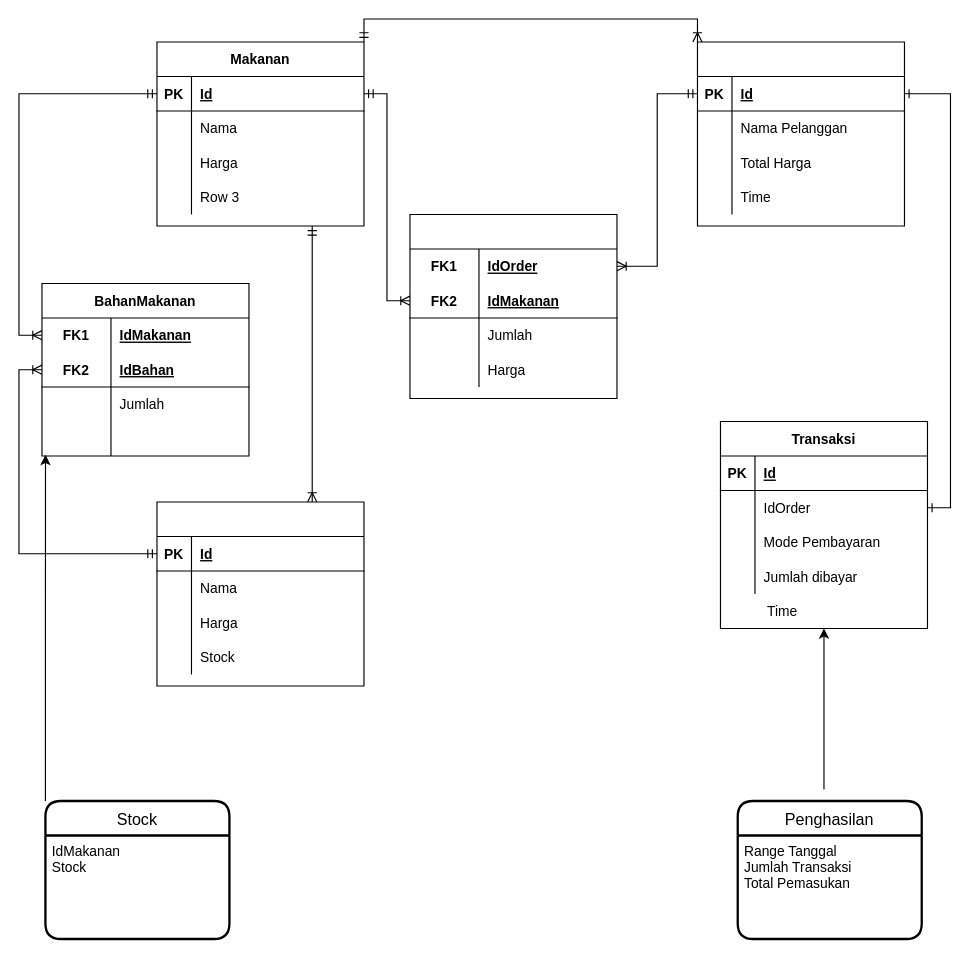
Image size: 969x958. Some labels were removed from this diagram. Each missing label, with the box of its shape:
Bahan: (156, 501, 364, 686)
Order: (696, 41, 904, 226)
OrderMakanan: (409, 213, 617, 398)
